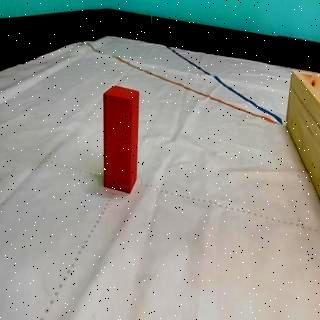redbox: (103, 84, 140, 194)
